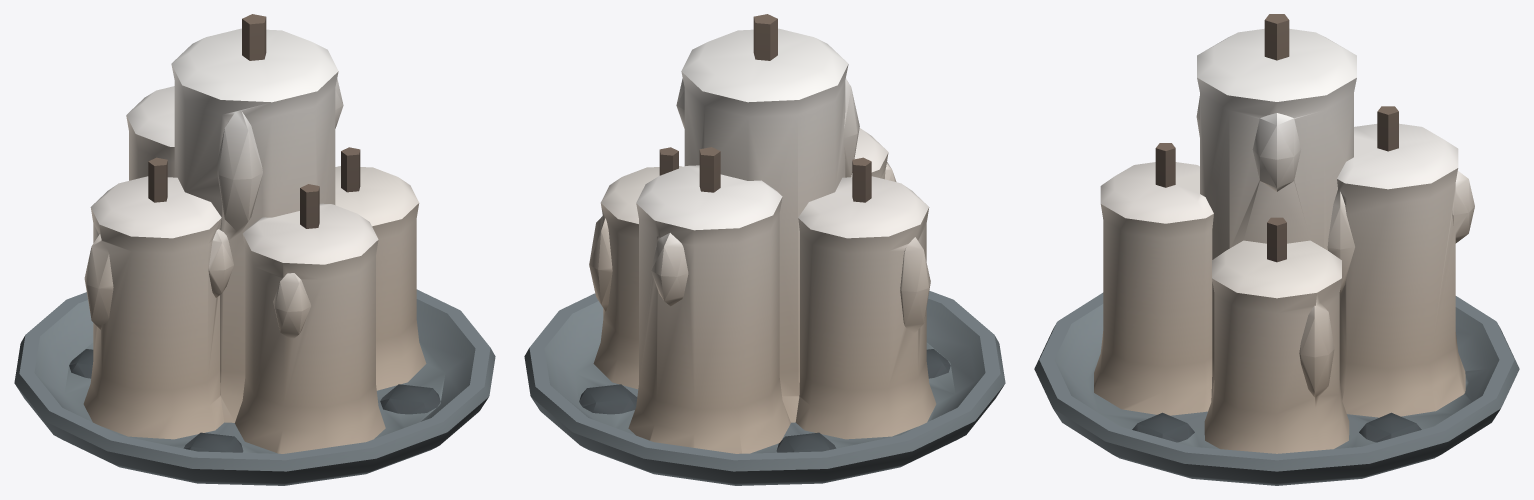
File: candle_plate.glb
The picture shows the model from 3 angles, left to right: view 1: azimuth 30°, elevation 25°; view 2: azimuth 150°, elevation 25°; view 3: azimuth 270°, elevation 25°; orthographic projection.
Parts seen in each view (by area): view 1: candle_plate; view 2: candle_plate; view 3: candle_plate.
Boxes of the visible parts, bbox=[...] form: candle_plate: bbox=[14, 14, 495, 485]; candle_plate: bbox=[524, 14, 1005, 485]; candle_plate: bbox=[1034, 14, 1519, 485].
Bounding box in the file's own units: 0.96 × 0.8435 × 0.96.
Materials: 1 (1 with a texture image).
